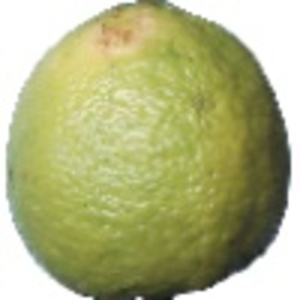limão: (6, 1, 292, 300)
